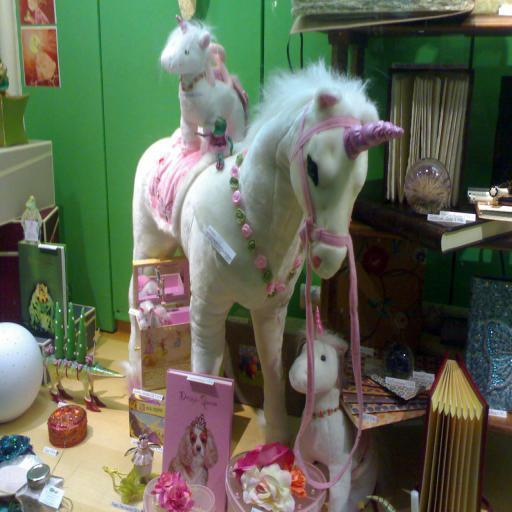horse: (128, 52, 405, 451), (287, 305, 379, 512)
